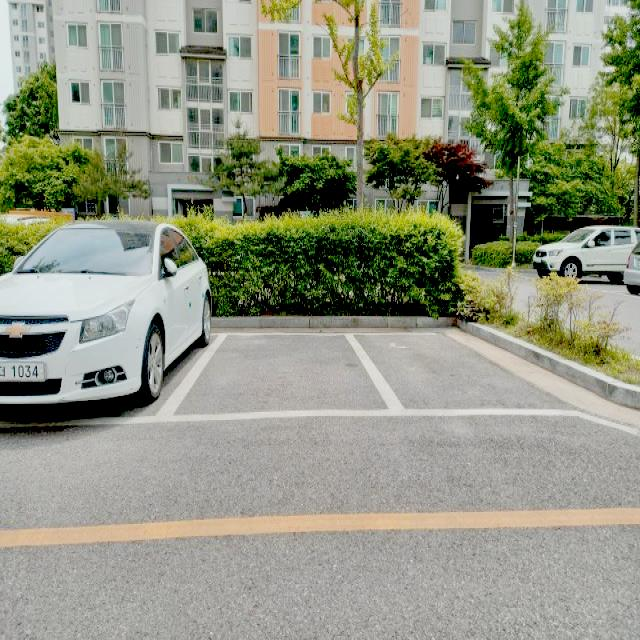empty: (354, 321, 576, 419), (165, 331, 400, 415)
occupied: (0, 221, 213, 407)
